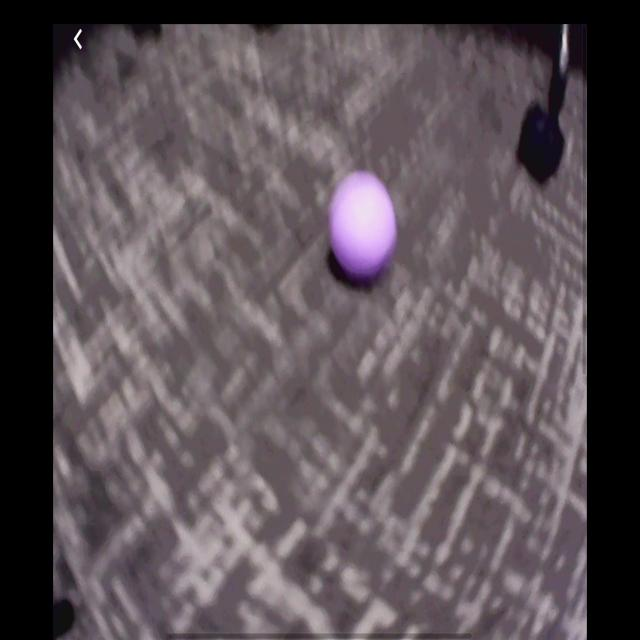ball: (328, 173, 394, 274)
